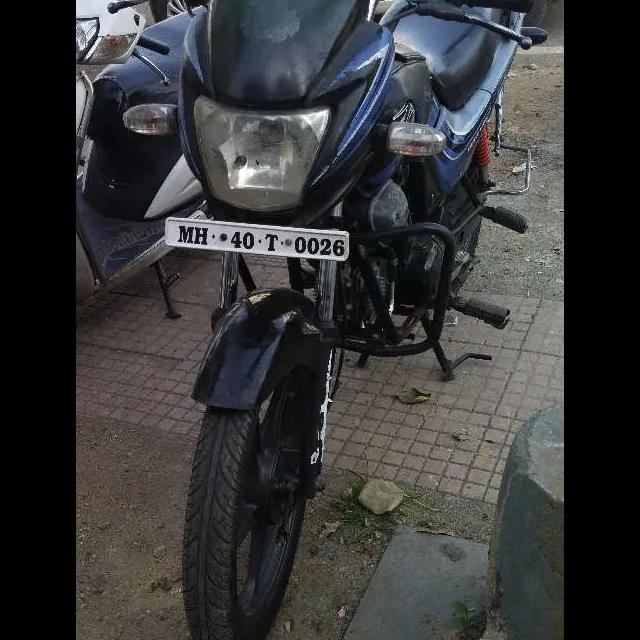Indian_Number_Plate: (164, 218, 348, 261)
